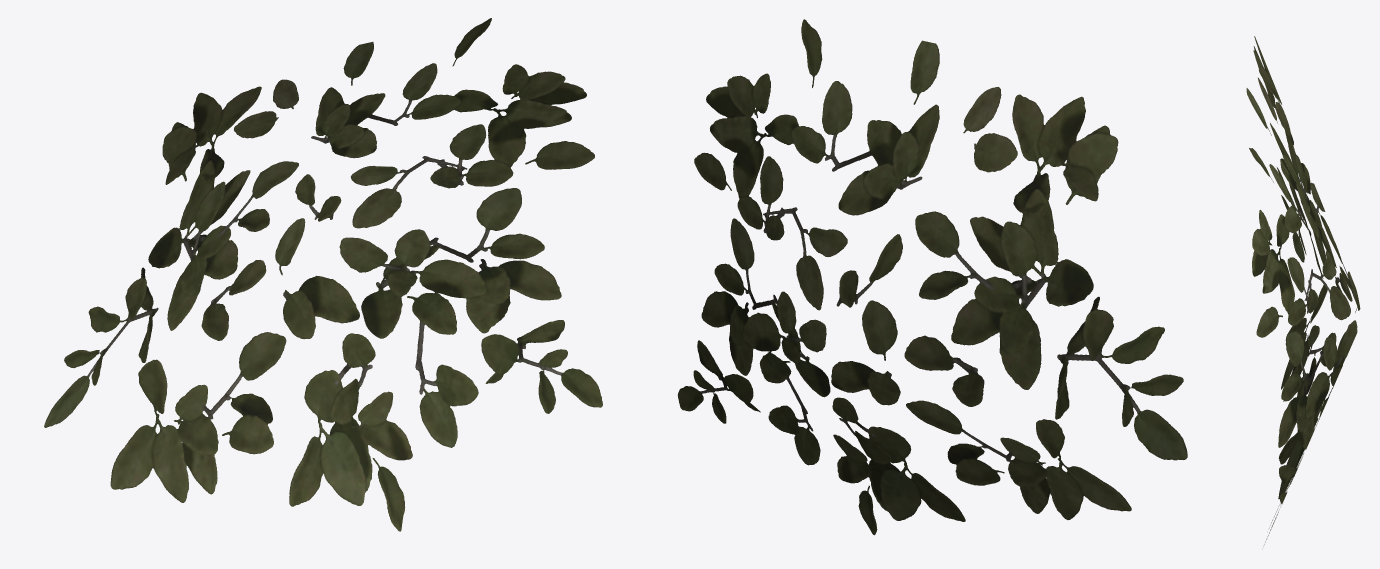
Rendered from TI_Tree_Branch_Part_03.fbx.
3 renders of one model, left to right at view 1: azimuth 30°, elevation 25°; view 2: azimuth 150°, elevation 25°; view 3: azimuth 270°, elevation 25°, orthographic. The views are drawn at different scales.
Visible parts, largest first — view 1: TI_Tree_Branch_Part_03; view 2: TI_Tree_Branch_Part_03; view 3: TI_Tree_Branch_Part_03.
Boxes of the visible parts, <box> form: TI_Tree_Branch_Part_03: <box>44,18,602,531</box>; TI_Tree_Branch_Part_03: <box>677,19,1187,535</box>; TI_Tree_Branch_Part_03: <box>1246,36,1360,544</box>.
Bounding box in the file's own units: 0.8889 × 0.7575 × 0.1853.
